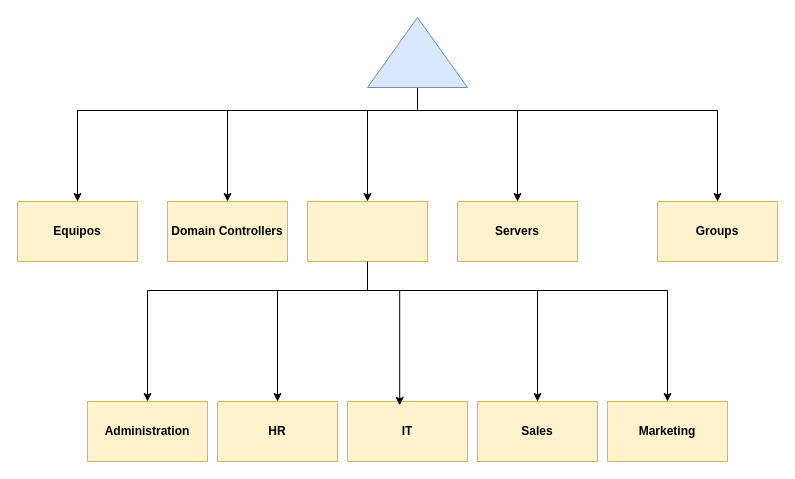
Image size: 795x479. Some labels were removed from this diagram. Here are the shapes that lost their labels. From the top down, the centre of each, then its label:
At point 417,52: "opyee.net".
At point 367,231: "Department".
